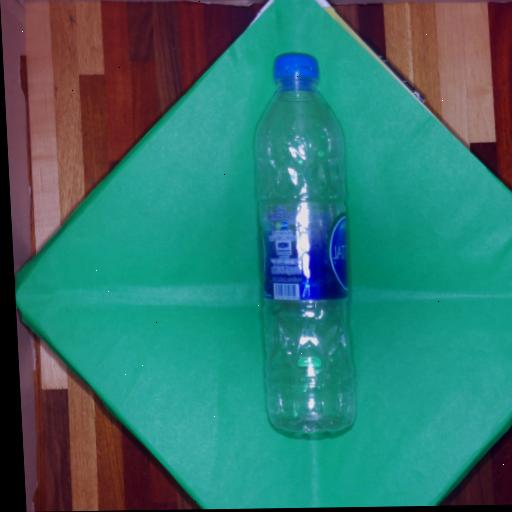bottle: (238, 37, 383, 449)
